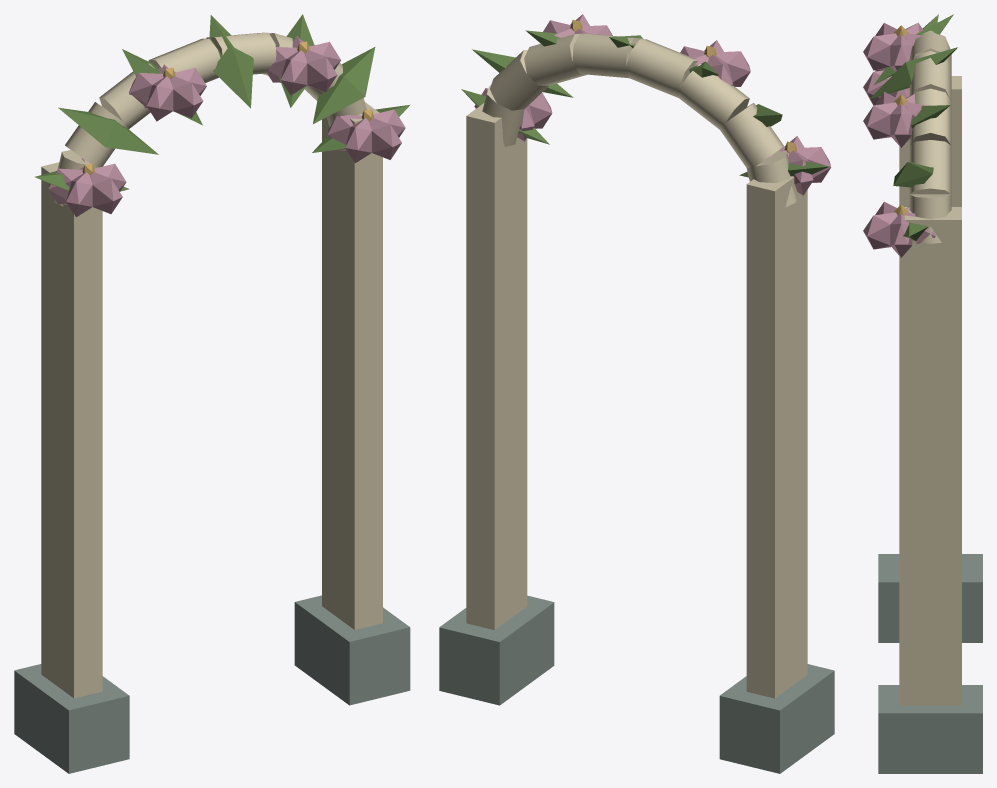
File: decoration-arch.glb
3 renders of one model, left to right at view 1: azimuth 30°, elevation 25°; view 2: azimuth 150°, elevation 25°; view 3: azimuth 270°, elevation 25°, orthographic. The views are drawn at different scales.
Parts seen in each view (by area): view 1: decoration-arch-visual; view 2: decoration-arch-visual; view 3: decoration-arch-visual.
Boxes of the visible parts, x1,y1,x2,y2 form: decoration-arch-visual: (14,14,410,773); decoration-arch-visual: (439,14,834,773); decoration-arch-visual: (863,14,982,773).
Size of the model in its own units: 0.9834 by 1.72 by 0.2864.
